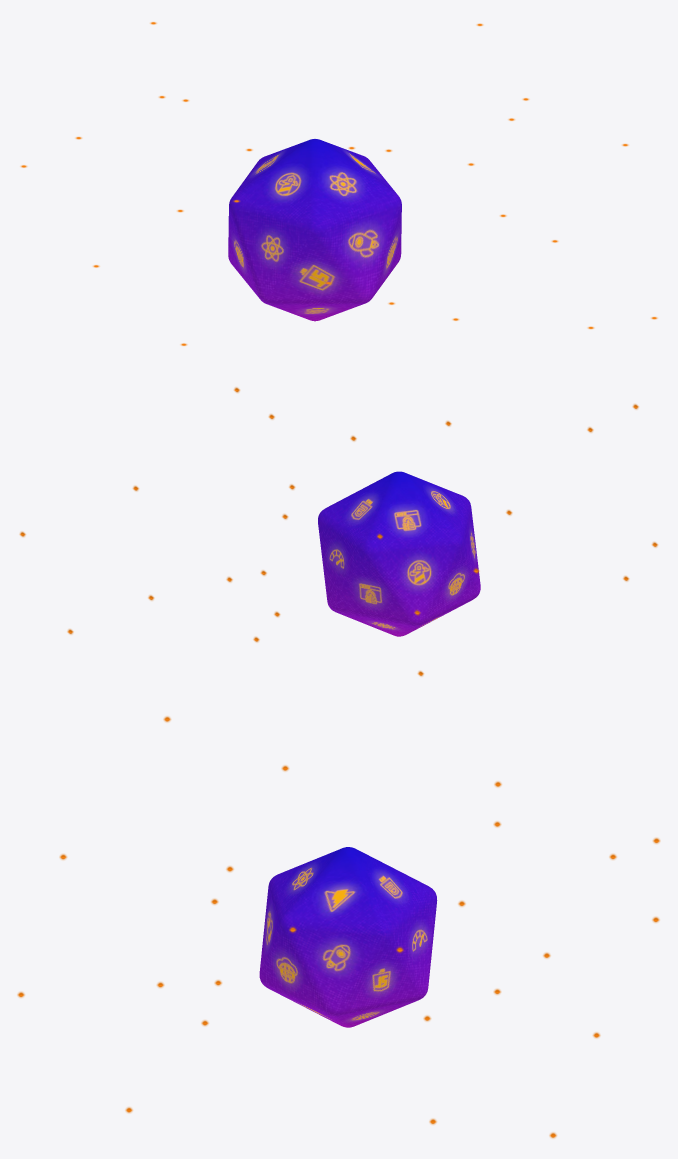
The picture shows the model from 3 angles, top to bottom: view 1: azimuth 30°, elevation 25°; view 2: azimuth 150°, elevation 25°; view 3: azimuth 270°, elevation 25°; orthographic projection. The views are drawn at different scales.
Parts seen in each view (by area): view 1: polySurface92.030; view 2: polySurface92.030, Plane.004_ground_0; view 3: polySurface92.030, Plane.004_ground_0.
Part boxes in pixels (bbox=[...]): polySurface92.030: bbox=[228, 139, 401, 321]; polySurface92.030: bbox=[318, 471, 480, 636]; Plane.004_ground_0: bbox=[19, 387, 657, 676]; polySurface92.030: bbox=[259, 847, 437, 1027]; Plane.004_ground_0: bbox=[17, 716, 660, 1138].
Bounding box in the file's own units: 6.2 × 2.49 × 6.36.
Materials: 2 (2 with a texture image).
